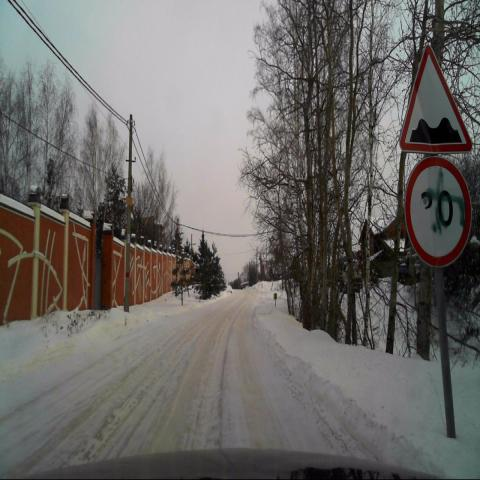1_16: (400, 43, 472, 155)
